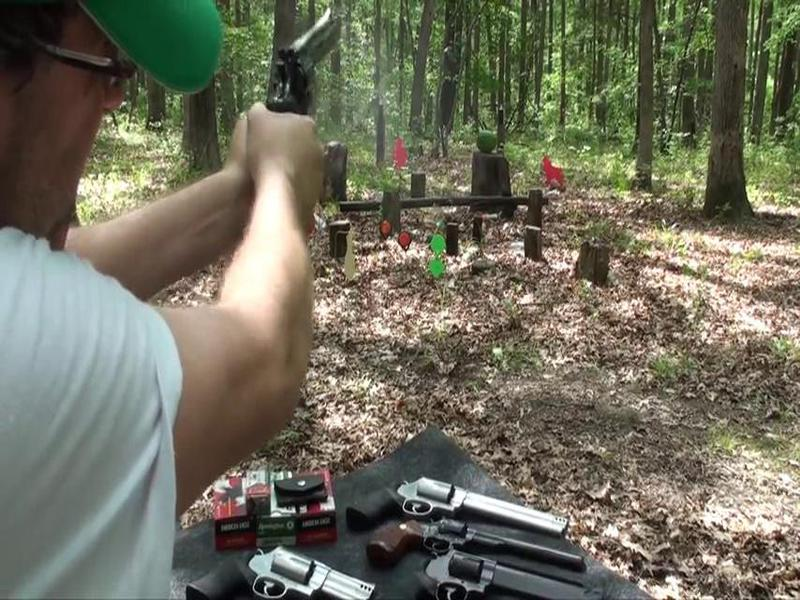Revolver: (256, 11, 354, 151)
